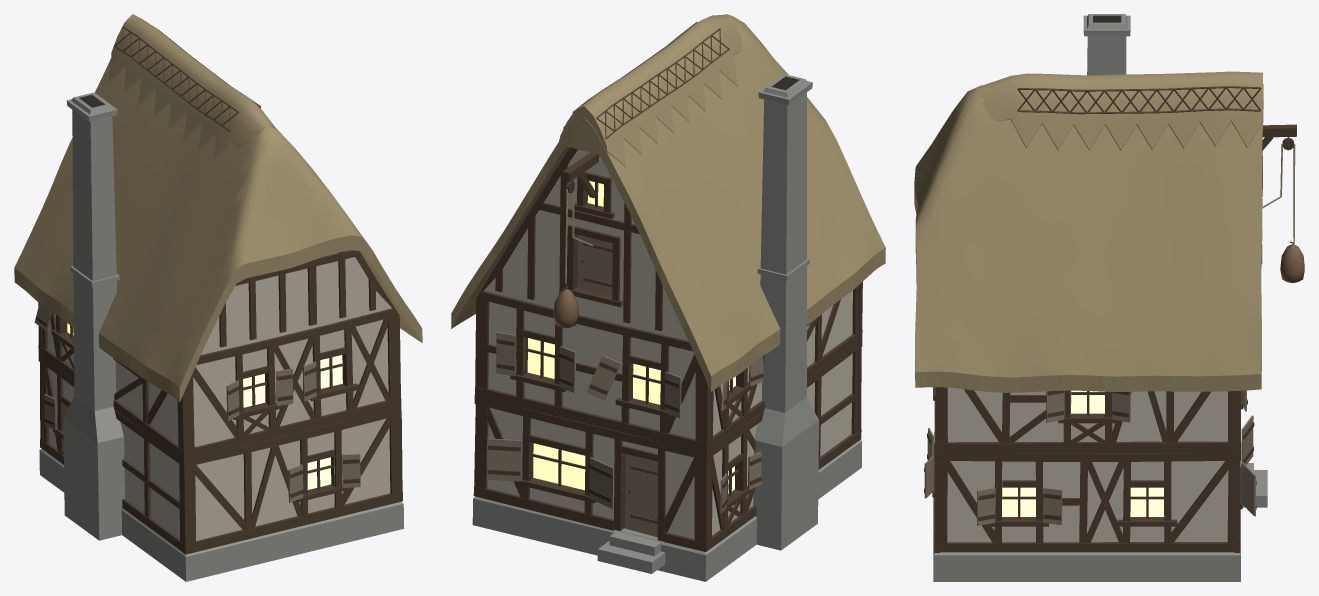
The model's file is house_c.glb.
The picture shows the model from 3 angles, left to right: view 1: azimuth 30°, elevation 25°; view 2: azimuth 150°, elevation 25°; view 3: azimuth 270°, elevation 25°; orthographic projection. The views are drawn at different scales.
Visible parts, largest first — view 1: house_c, window_7, window_5, window_6; view 2: house_c, window_1, window_3, window_2; view 3: house_c, window_9, window_8, window_10.
Boxes of the visible parts, bbox=[...] form: house_c: bbox=[14, 14, 422, 581]; window_7: bbox=[320, 355, 342, 388]; window_5: bbox=[307, 457, 331, 489]; window_6: bbox=[243, 373, 265, 407]; house_c: bbox=[451, 14, 885, 581]; window_1: bbox=[533, 443, 585, 490]; window_3: bbox=[633, 363, 660, 404]; window_2: bbox=[527, 338, 554, 378]; house_c: bbox=[914, 14, 1304, 581]; window_9: bbox=[1130, 487, 1164, 516]; window_8: bbox=[1002, 487, 1035, 516]; window_10: bbox=[1071, 390, 1104, 413].
Bounding box in the file's own units: 7.24 × 11.66 × 9.14.
